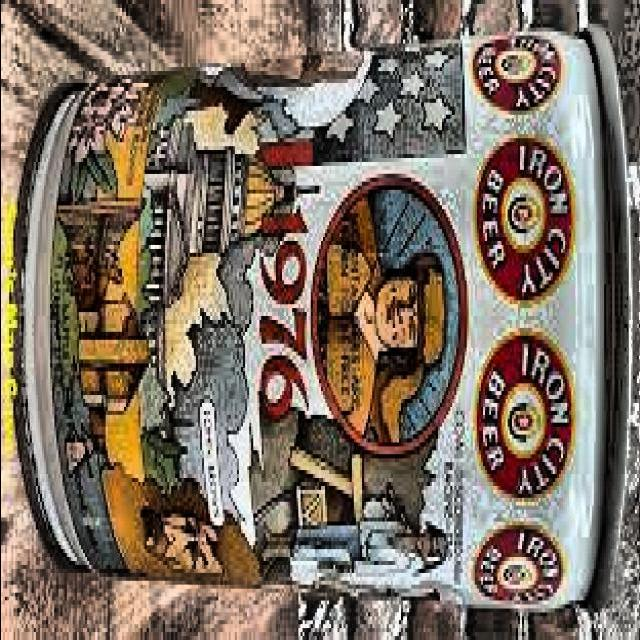litter: (10, 0, 636, 640)
